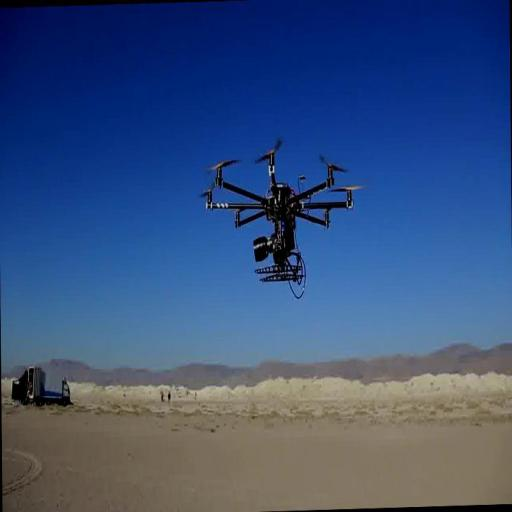drone: (200, 140, 356, 293)
